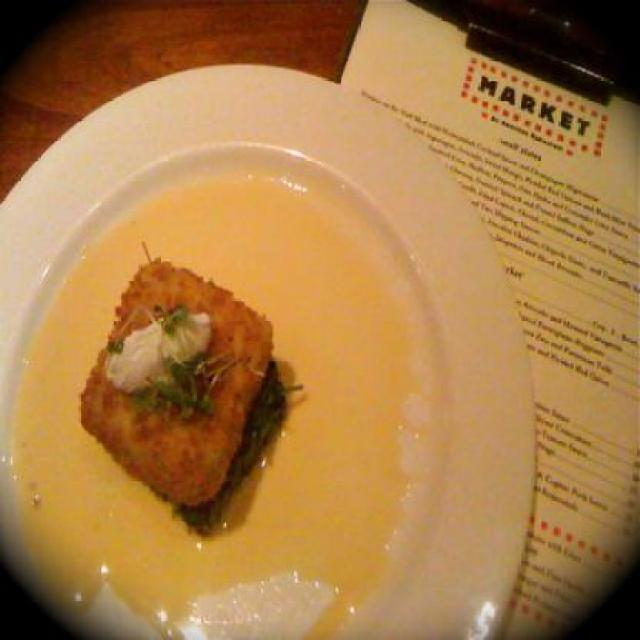Risotto: (78, 248, 304, 532)
